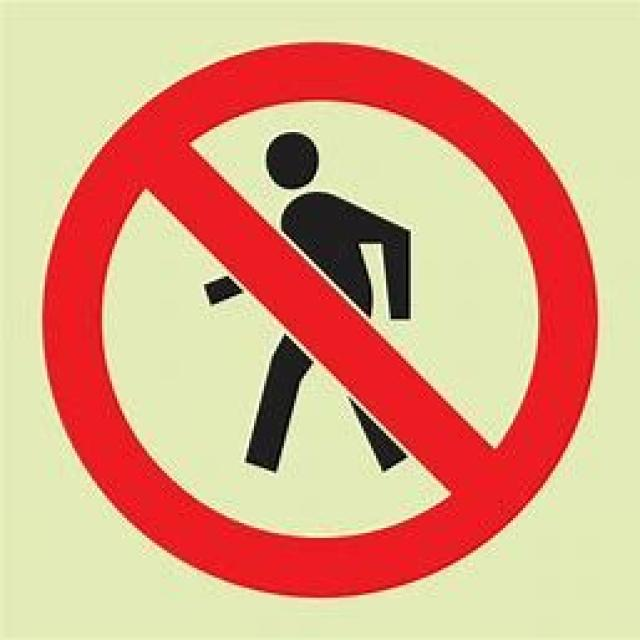Priority road: (35, 37, 598, 598)
